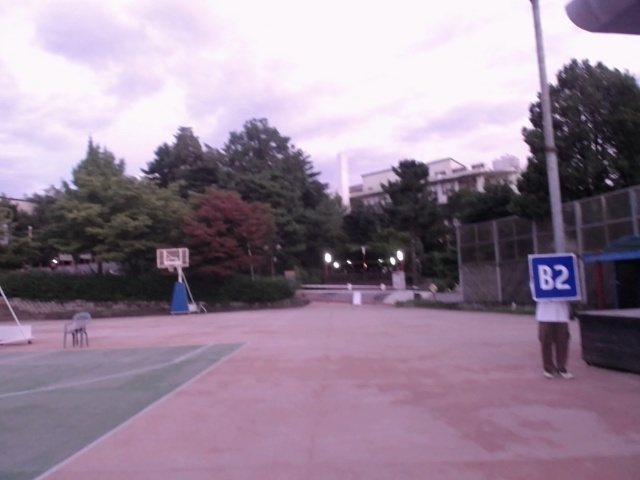delivery_b2: (528, 252, 580, 301)
